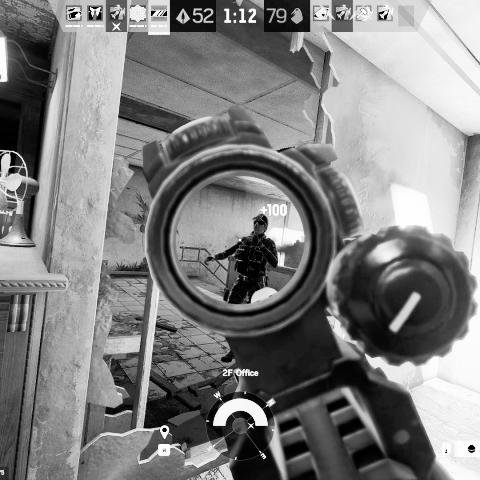Character: (204, 211, 282, 370)
Head: (252, 213, 269, 236)
